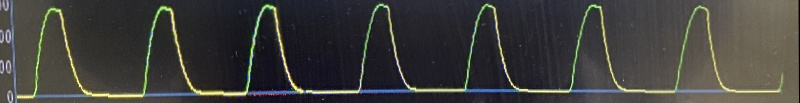normal_volume: (14, 0, 764, 101)
